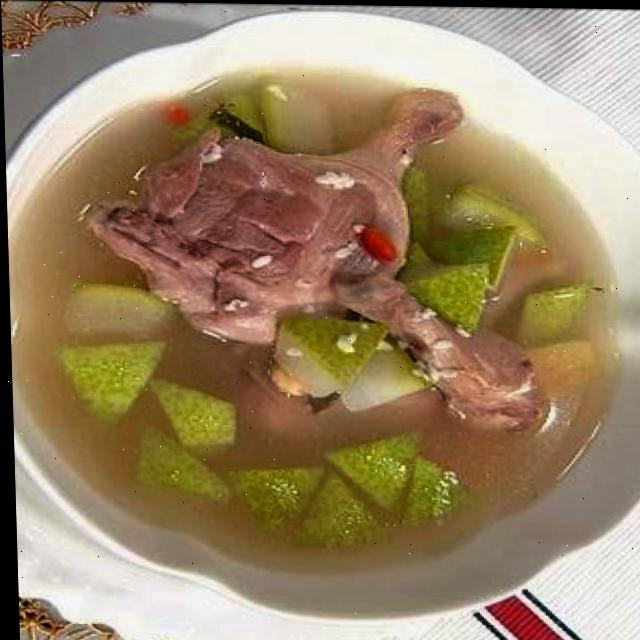汤锅炖物: (19, 81, 614, 551)
